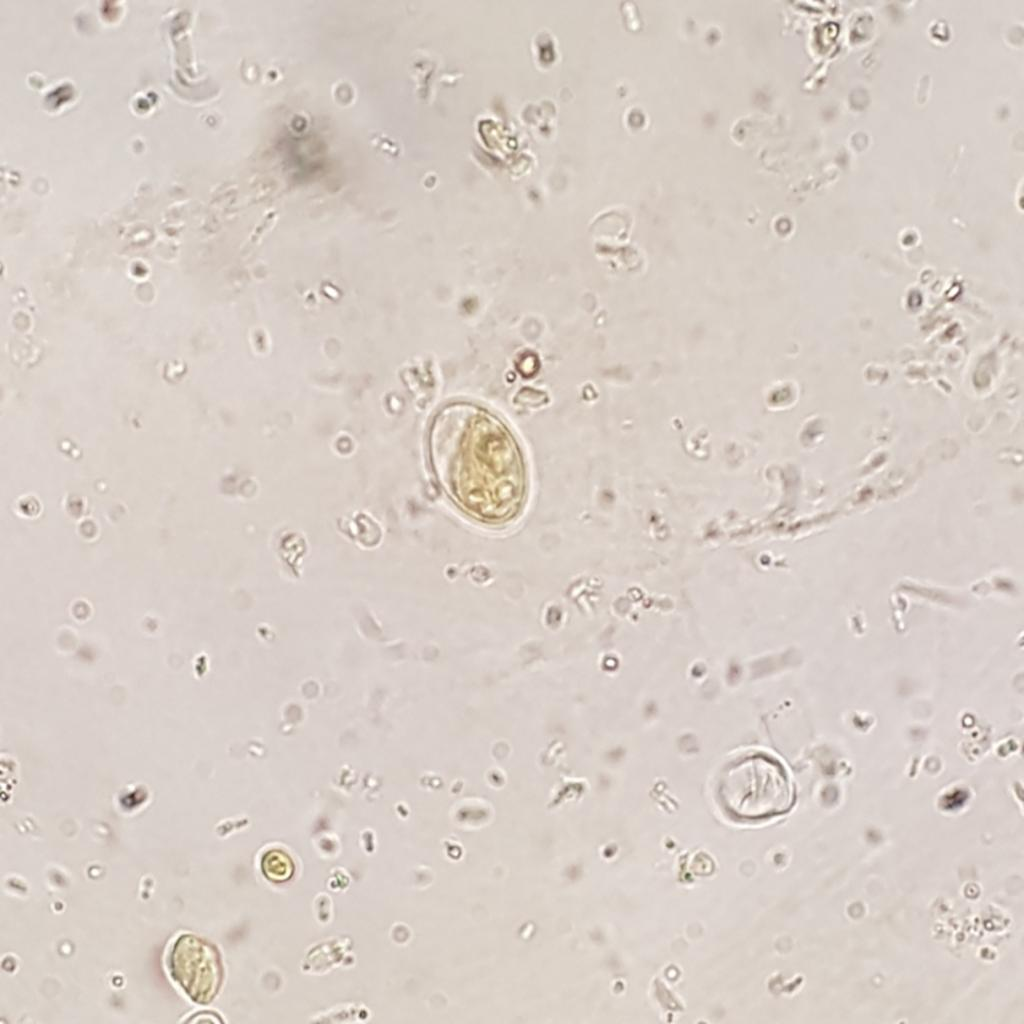Giardia: (412, 388, 538, 535)
